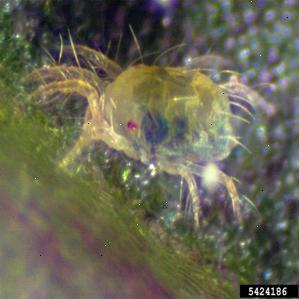spider mite: (28, 28, 276, 254)
